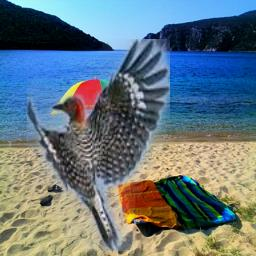Woodpecker: (27, 39, 170, 251)
